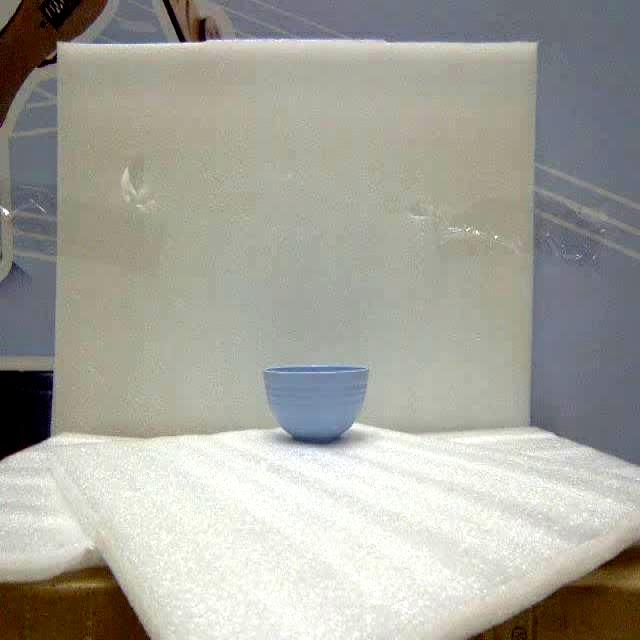Bowl: (263, 365, 368, 442)
